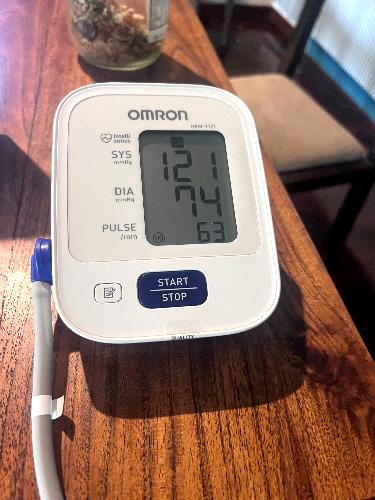bpm: (131, 120, 240, 258)
